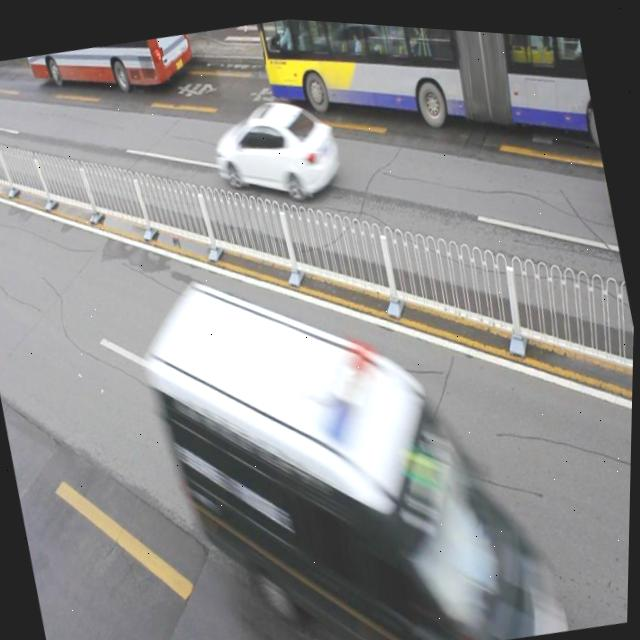car: (207, 81, 349, 214)
truck: (132, 215, 573, 640)
van: (250, 13, 599, 192), (26, 22, 198, 111)
